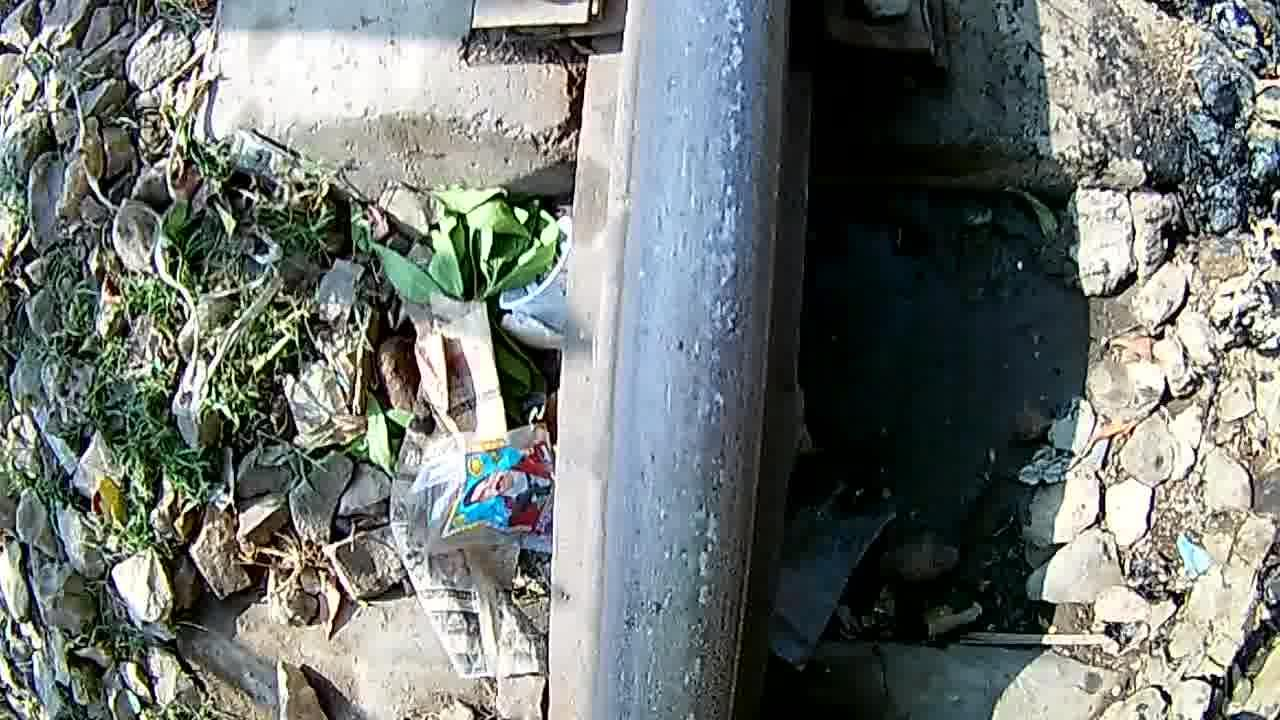clip_missing: (599, 1, 798, 720)
